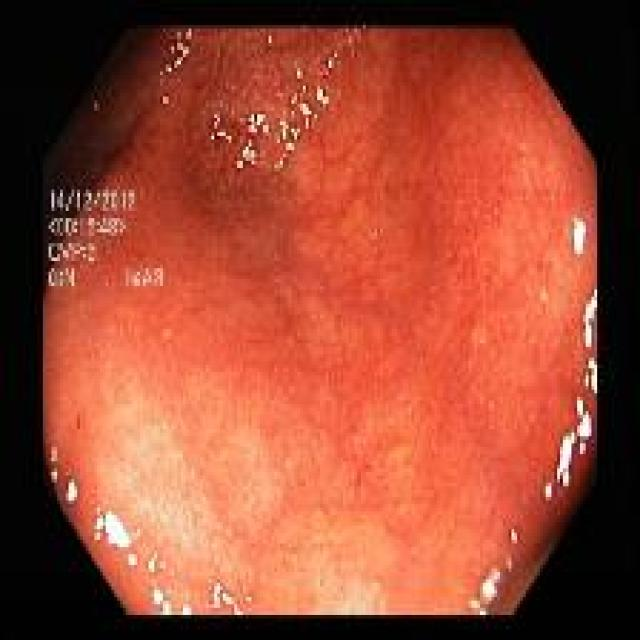ulcerative-colitis: (42, 28, 598, 617)
